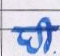i_matra: (40, 17, 51, 52)
